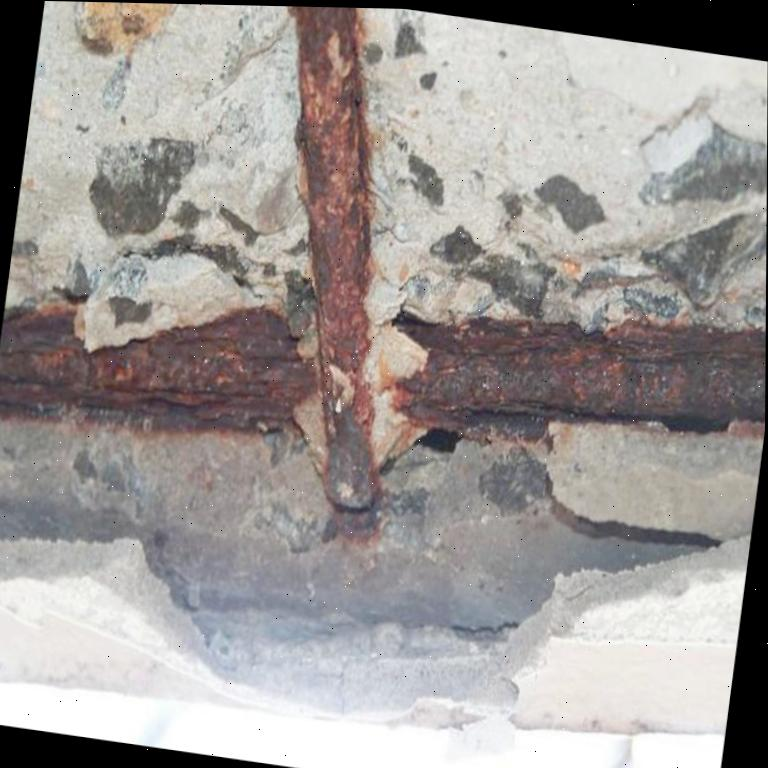exposed_rebar: (289, 6, 381, 512), (396, 317, 766, 431), (0, 309, 315, 429)
spalling: (0, 1, 767, 758)
